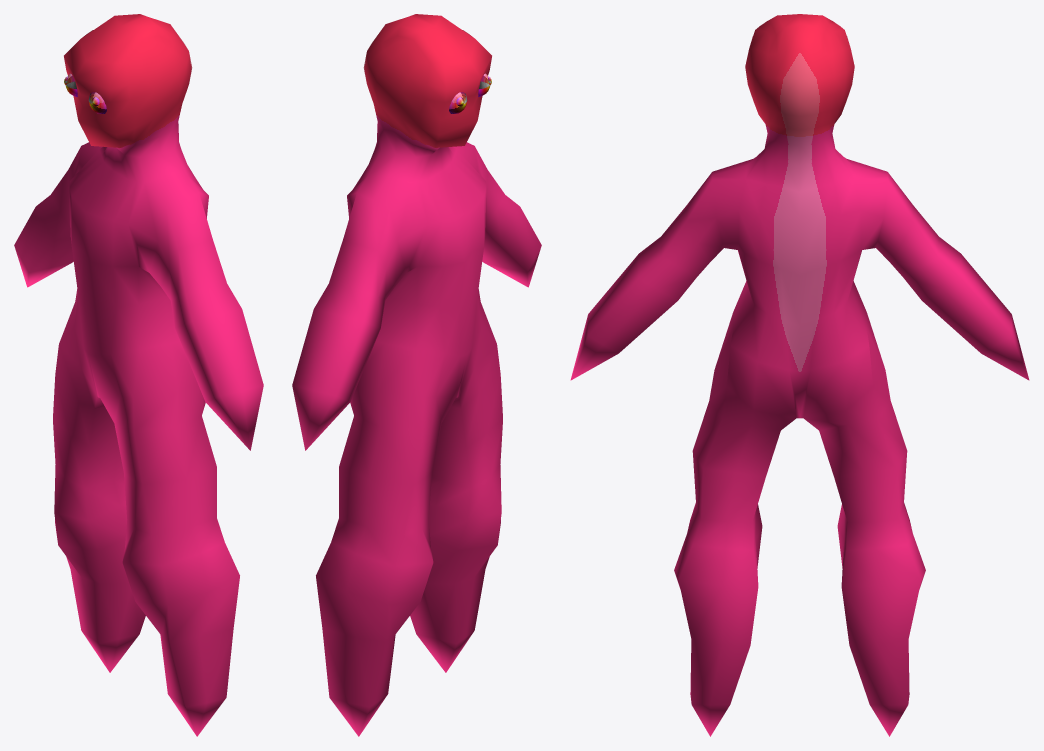
The model's file is charachter_Default.glb.
The picture shows the model from 3 angles, left to right: view 1: azimuth 30°, elevation 25°; view 2: azimuth 150°, elevation 25°; view 3: azimuth 270°, elevation 25°; orthographic projection. The views are drawn at different scales.
Visible parts, largest first — view 1: Cube; view 2: Cube; view 3: Cube.
Part boxes in pixels (x1,y1,x2,y2): Cube: (14, 14, 263, 736); Cube: (292, 14, 541, 736); Cube: (570, 14, 1029, 736).
Bounding box in the file's own units: 0.4681 × 2.61 × 1.53.
Materials: 1 (1 with a texture image).
